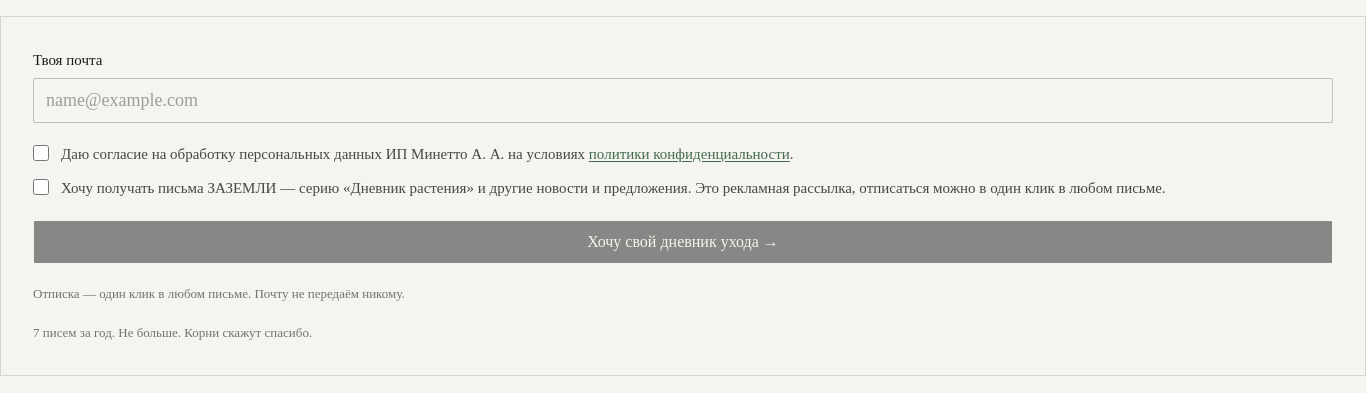
Scenario: SignupForm — кнопка submit заблокирована до согласия на обработку ПДн › отметка согласия на обработку ПДн (CB1) разблокирует кнопку
Click the 1st checkbox at x=41, y=152, box [33,144,49,160]
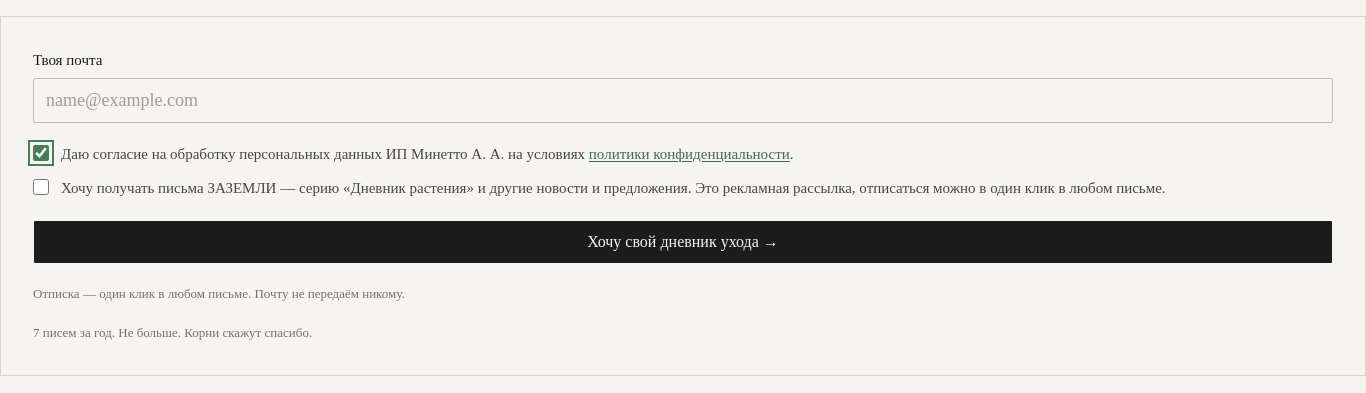
Expected: the button "Хочу свой дневник ухода →" is enabled, [33,220,1333,264]
